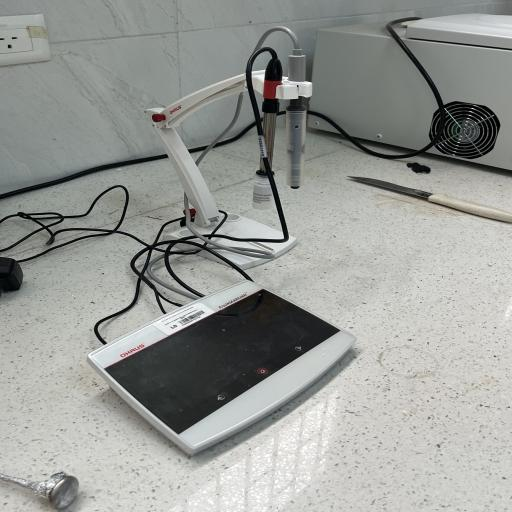Phmetro_Ohaus: (74, 274, 369, 474)
